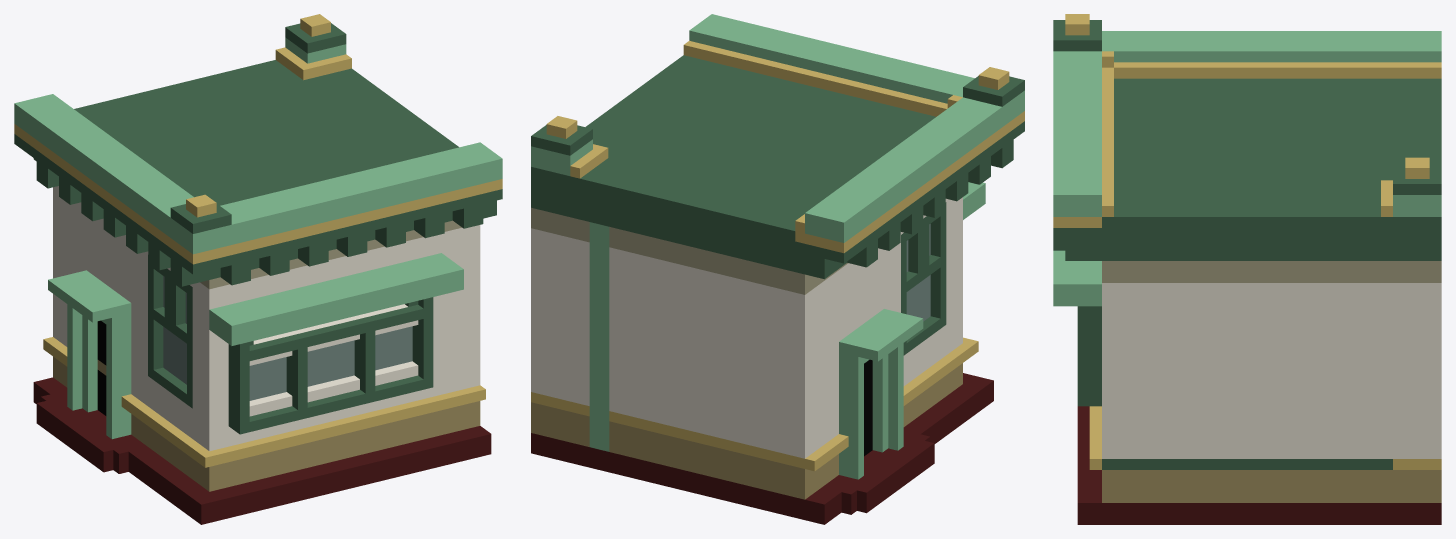
Rendered from tile_1_left_corner_90.obj.
The picture shows the model from 3 angles, left to right: view 1: azimuth 30°, elevation 25°; view 2: azimuth 150°, elevation 25°; view 3: azimuth 270°, elevation 25°; orthographic projection. The views are drawn at different scales.
Size of the model in its own units: 3.2 by 3.2 by 3.2.
